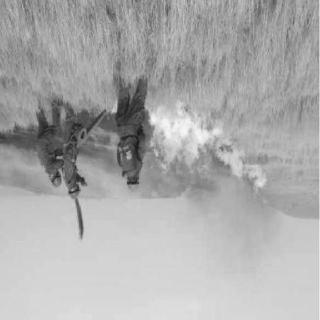Fire: (146, 98, 276, 190)
